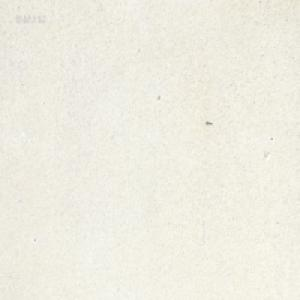Nail: (205, 120, 212, 125)
